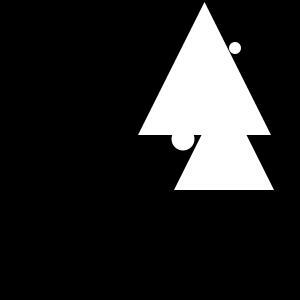rectangle: (172, 128, 194, 150), (229, 42, 241, 54)
triangle: (138, 2, 271, 135), (174, 90, 274, 190)
